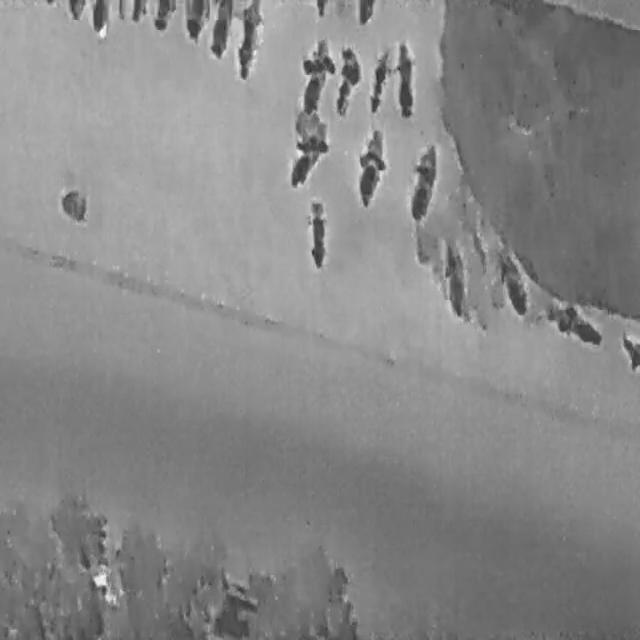Bicycle: (279, 111, 337, 198), (290, 30, 341, 119), (537, 290, 609, 350), (349, 121, 393, 209), (403, 137, 443, 225), (326, 40, 367, 120), (495, 245, 534, 320), (233, 0, 264, 80), (441, 232, 468, 320), (363, 44, 395, 116), (391, 39, 417, 119), (305, 194, 328, 268), (207, 0, 233, 60), (182, 0, 209, 41), (89, 0, 109, 39), (152, 0, 176, 31), (621, 331, 638, 370), (66, 0, 86, 21), (129, 0, 148, 22), (357, 0, 373, 26), (313, 0, 326, 19), (116, 0, 126, 20)
